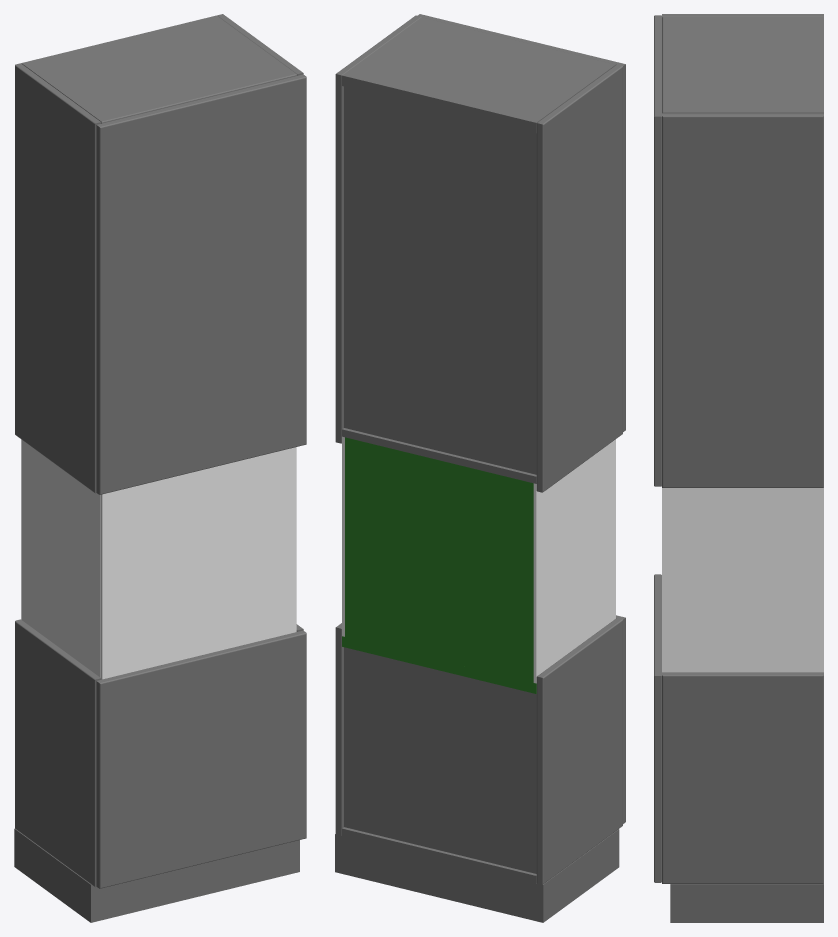
File: Detail_3D_Moebel_004.fbx
3 views of the same model, side by side, from view 1: azimuth 30°, elevation 25°; view 2: azimuth 150°, elevation 25°; view 3: azimuth 270°, elevation 25° (orthographic).
Parts seen in each view (by area): view 1: 3dSolid18, 3dSolid4, 3dSolid10, 3dSolid13, 3dSolid0, 3dSolid15, 3dSolid7, 3dSolid20, 3dSolid23; view 2: 3dSolid19, 3dSolid5, 3dSolid11, 3dSolid13, 3dSolid0, 3dSolid15, 3dSolid7, 3dSolid22, 3dSolid12, 3dSolid23, 3dSolid2, 3dSolid9 (+7 smaller); view 3: 3dSolid12, 3dSolid, 3dSolid6, 3dSolid15, 3dSolid21, 3dSolid18, 3dSolid4, 3dSolid10, 3dSolid13.
Part boxes in pixels (x1,y1,x2,y2): 3dSolid18: (96,74,306,494); 3dSolid4: (96,630,306,888); 3dSolid10: (100,447,296,679); 3dSolid13: (15,63,101,493); 3dSolid0: (15,619,101,887); 3dSolid15: (21,15,296,123); 3dSolid7: (21,439,100,677); 3dSolid20: (91,840,299,922); 3dSolid23: (14,828,90,922); 3dSolid19: (344,86,536,474); 3dSolid5: (344,647,536,873); 3dSolid11: (345,448,533,675); 3dSolid13: (536,64,622,492); 3dSolid0: (536,618,622,884); 3dSolid15: (342,17,615,133); 3dSolid7: (533,440,614,683); 3dSolid22: (335,834,543,922); 3dSolid12: (335,15,421,443); 3dSolid23: (543,829,619,922); 3dSolid2: (342,636,536,693); 3dSolid9: (345,437,533,493); 3dSolid12: (662,113,823,487); 3dSolid: (662,672,823,883); 3dSolid6: (665,488,823,672); 3dSolid15: (662,17,823,113); 3dSolid21: (670,884,823,922); 3dSolid18: (654,15,661,486); 3dSolid4: (654,574,661,882); 3dSolid10: (662,488,665,672); 3dSolid13: (662,14,823,17).
Size of the model in its own units: 1524 by 5588 by 1067.
